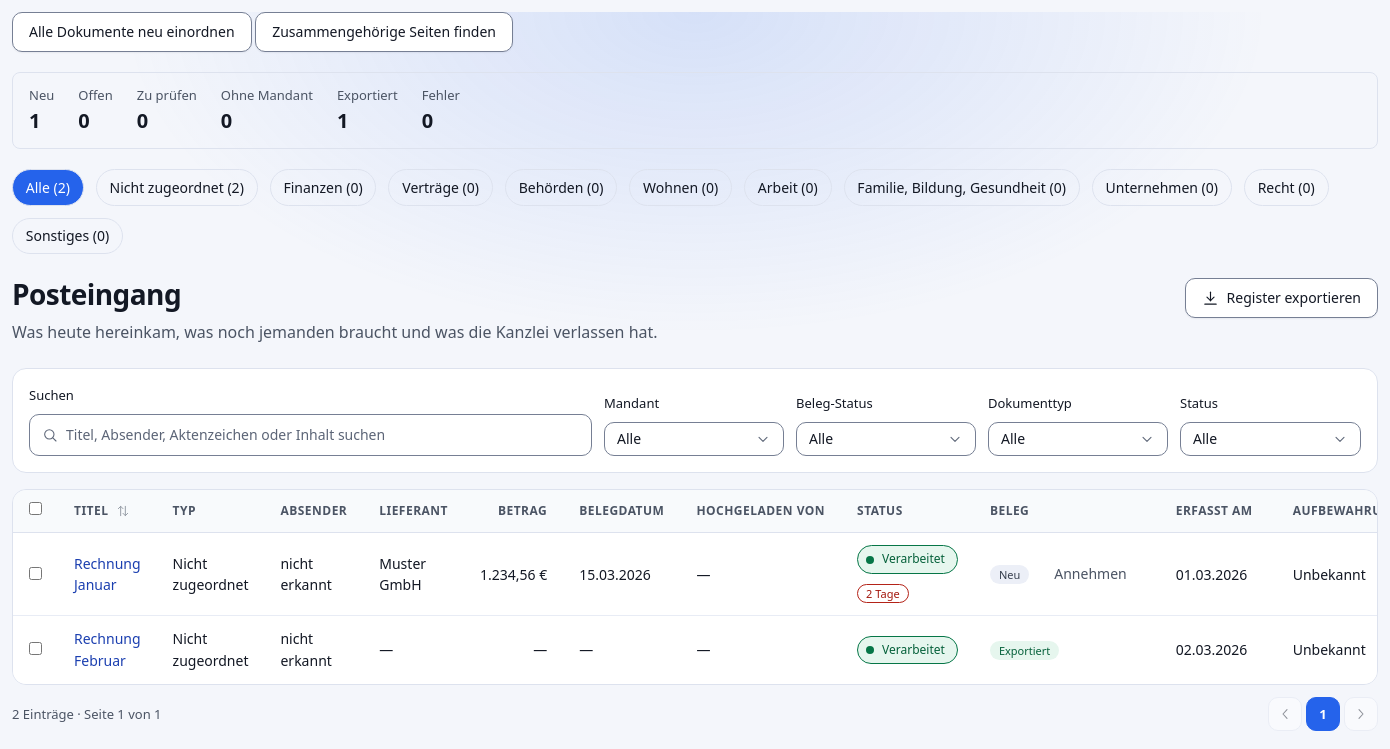
Scenario: Posteingang queue › turns a selection into the office actions and reports what the rules refused
Check: the link "Rechnung Januar" is shown, box [74,554,140,594]
Step 1. Click the checkbox named "Dokument auswählen: Rechnung Januar" → [36, 573], box [29,566,42,580]
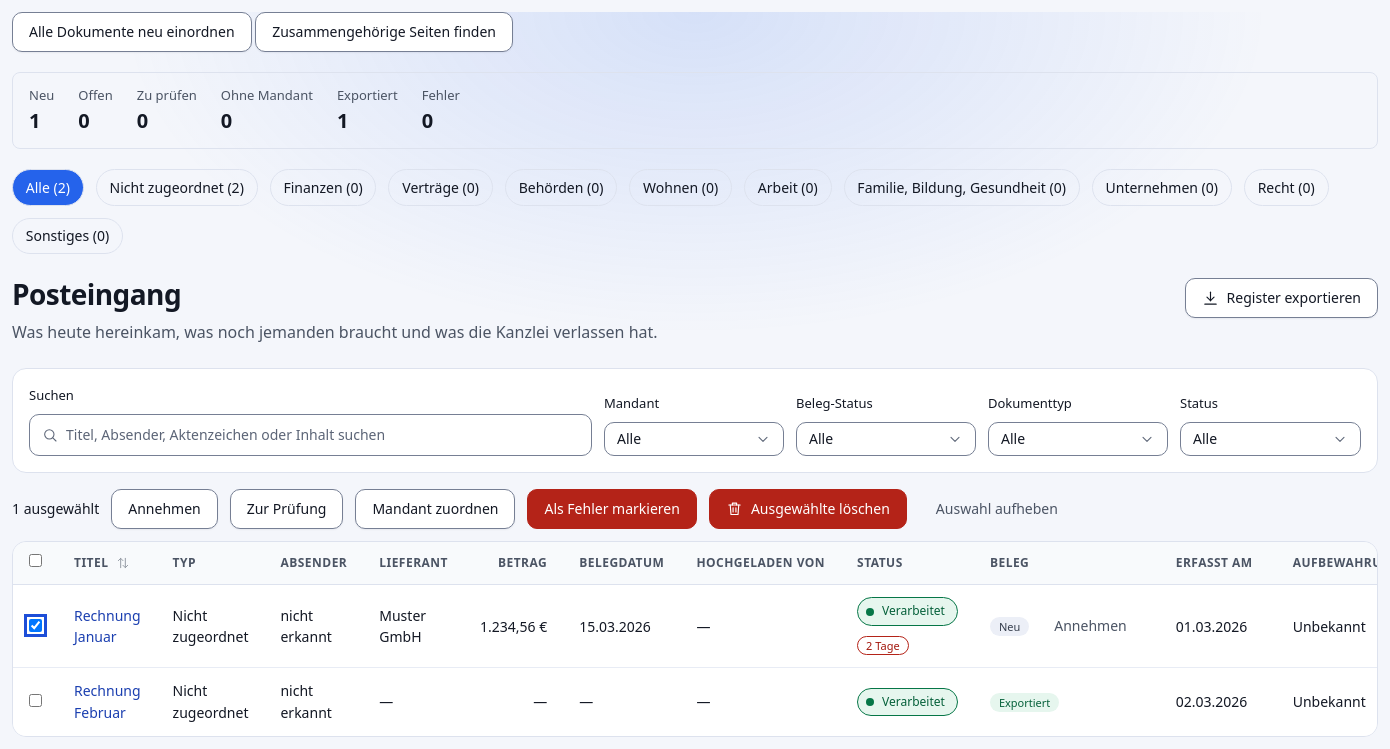
Step 2. Click the checkbox named "Dokument auswählen: Rechnung Februar" → [36, 701], box [29,694,42,707]
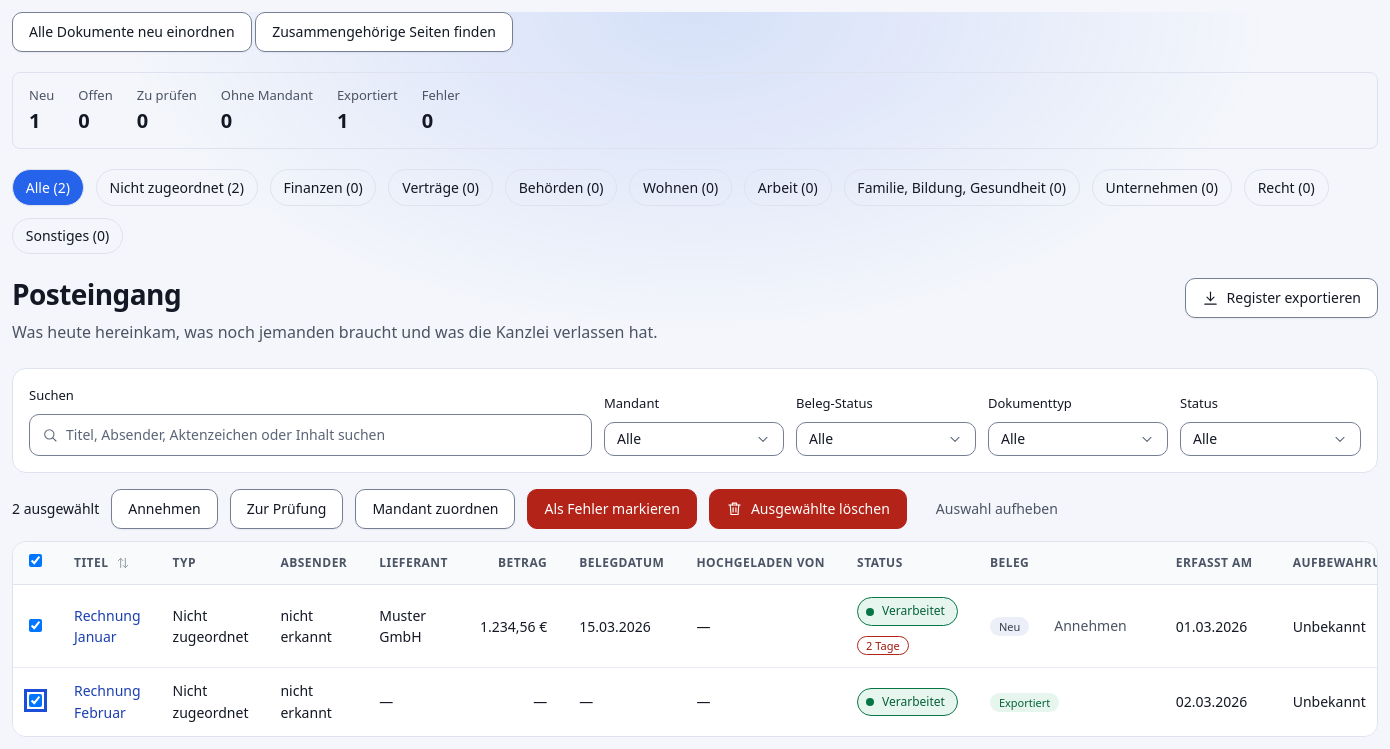
Check: the button "Zur Prüfung" is shown, box [230,489,343,529]
Check: the button "Mandant zuordnen" is shown, box [355,489,515,529]
Check: the text "2 ausgewählt" is shown, box [12,498,99,520]
Step 3. Click the button "Annehmen" next to "2 ausgewählt" → [164, 509], box [111,489,218,529]
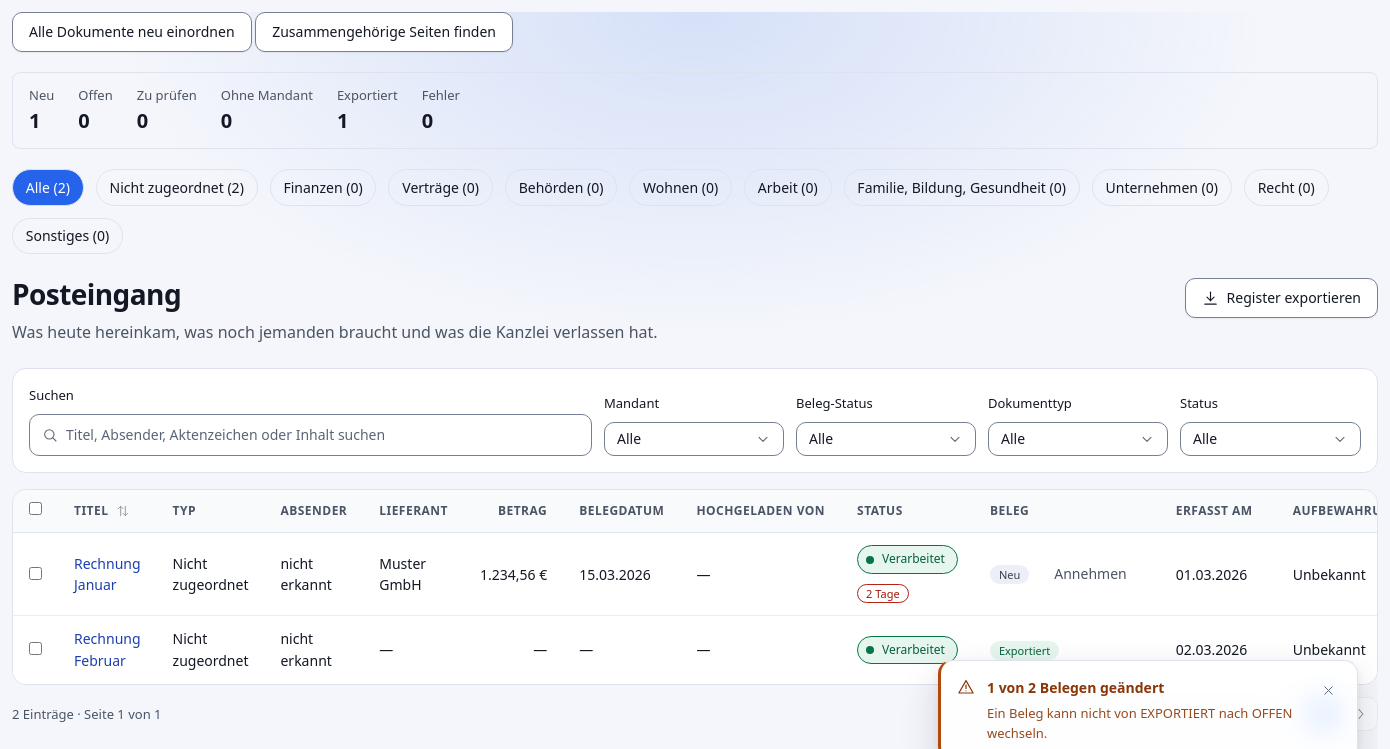
Check: the text "1 von 2 Belegen geändert" is shown, box [987,678,1164,697]
Check: the text "Ein Beleg kann nicht von EXPORTIERT nach OFFEN wechseln." is shown, box [987,703,1303,743]
